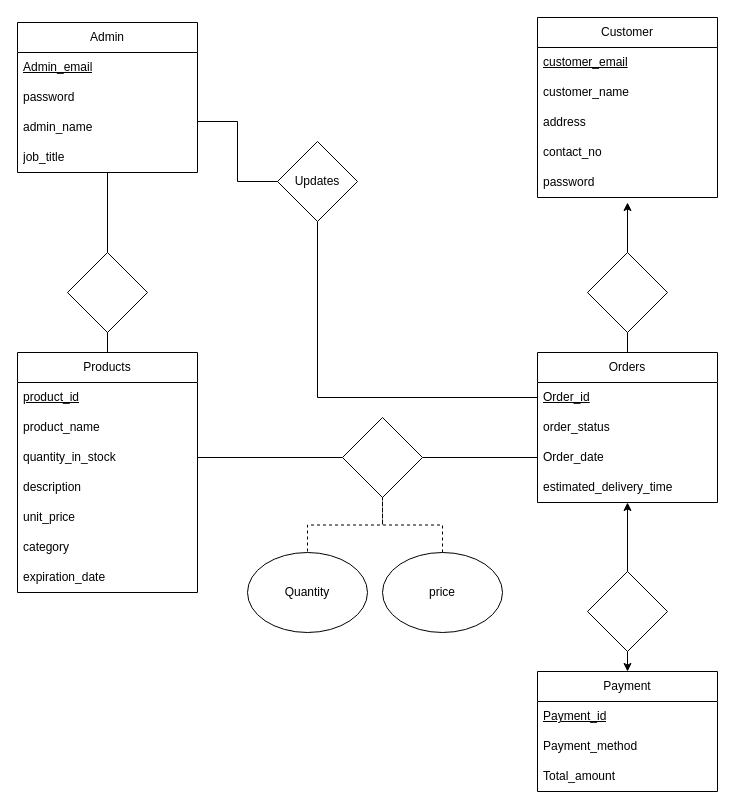
Image size: 735x809. Some labels were removed from this diagram. Here are the shapes that lost their labels. From the top down, the box of each, then its label:
(66, 252, 148, 332): Manages
(586, 252, 668, 332): places
(342, 416, 422, 498): Shoppping cart
(586, 570, 668, 652): checkout
